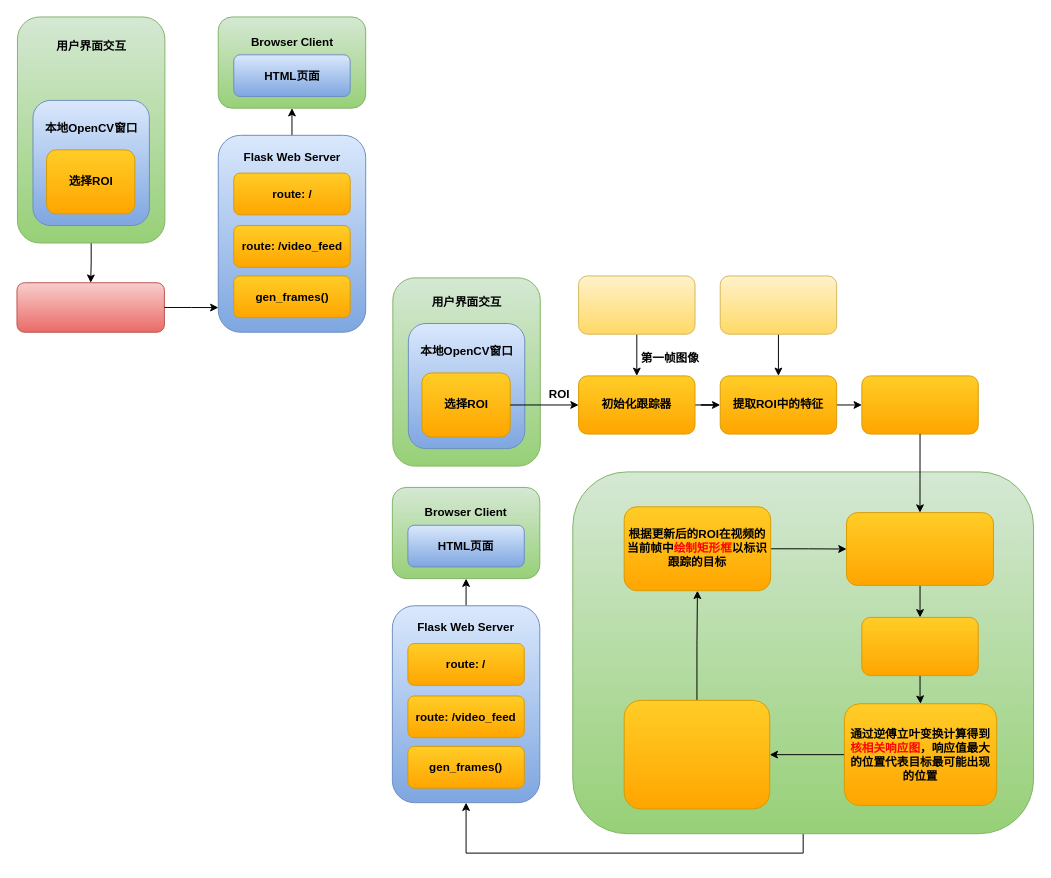
The diagram is 1051 pixels wide and 878 high, and some of its shapes have lost their labels. Each missing label, with the box of its shape:
Class KCFTracker: (16, 282, 164, 332)
HOG特征描述符: (719, 275, 837, 334)
创建高斯响应矩阵: (861, 375, 978, 434)
对当前帧的ROI进行 尺寸调整 并 提取HOG特征: (846, 512, 993, 585)
待处理视频: (578, 275, 695, 334)
根据核相关响应 更新ROI位置 ，并使用新帧的特征和计算得到的 新核相关滤波器系数 更新跟踪器内部状态: (623, 699, 770, 809)
视频帧处理: (572, 471, 1034, 834)
计算新帧与上一帧的特征之间的 核相关: (861, 616, 978, 676)
